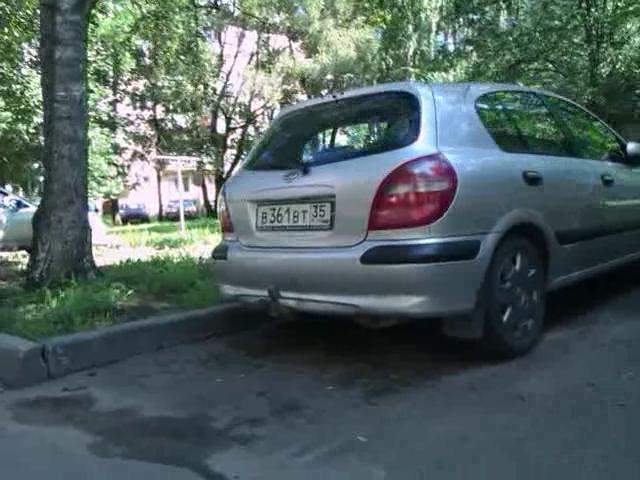car license plate: (254, 201, 334, 233)
